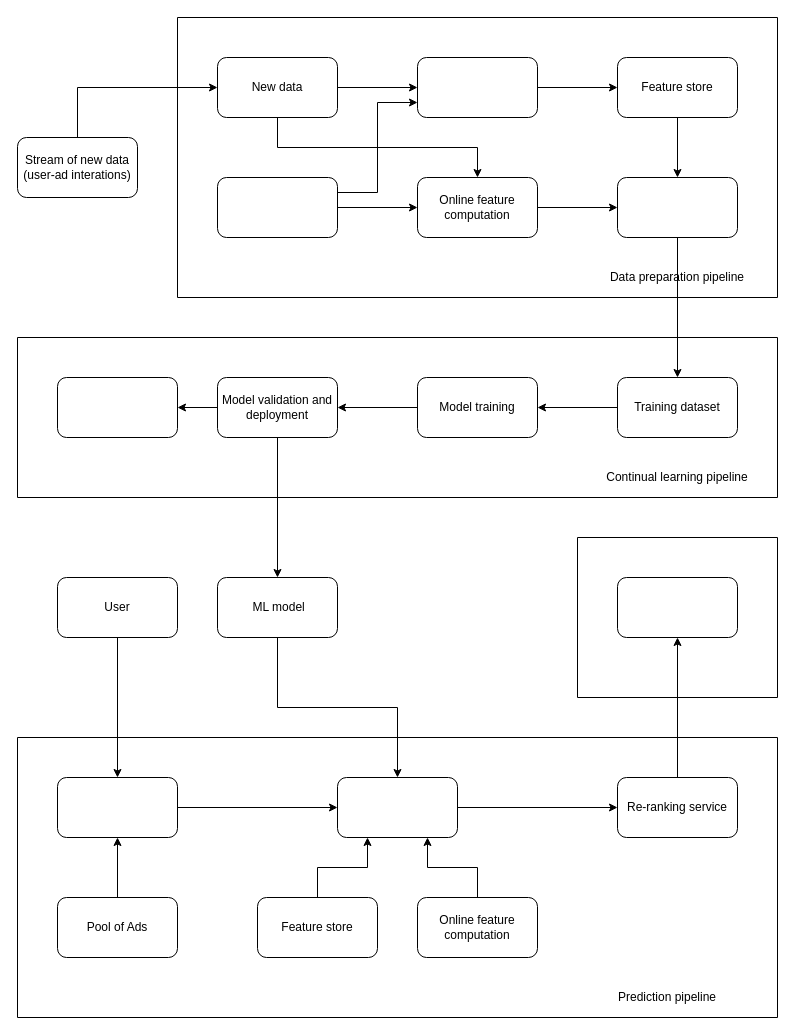
This 795x1035 diagram has some shape labels left out. Each missing label, with the box of its shape:
Batch feature computation: (416, 56, 538, 118)
Candidate generation service: (56, 776, 178, 838)
Data lake: (216, 176, 338, 238)
Dataset generation: (616, 176, 738, 238)
Model registry: (56, 376, 178, 438)
Ranked Ads: (616, 576, 738, 638)
Ranking service: (336, 776, 458, 838)
